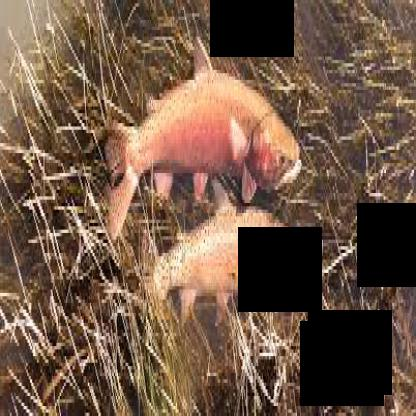fish: (103, 41, 306, 235), (140, 176, 310, 325)
